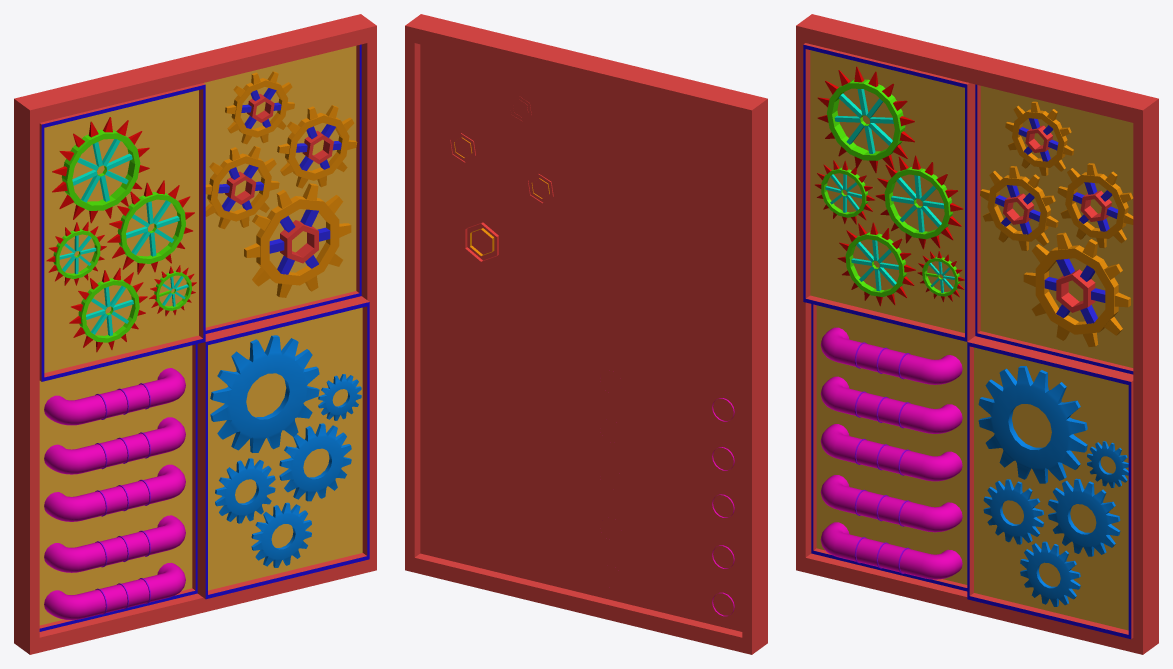
Rendered from WallV2UVID2.fbx.
3 renders of one model, left to right at view 1: azimuth 30°, elevation 25°; view 2: azimuth 150°, elevation 25°; view 3: azimuth 330°, elevation 25°, orthographic.
Parts seen in each view (by area): view 1: Wall, Pipe 1, Gear1, Gear2, Gear 3.004; view 2: Wall, Gear1; view 3: Wall, Pipe 1, Gear1, Gear2, Gear 3.004.
Part boxes in pixels (x1,y1,x2,y2): Wall: (14,14,376,654); Pipe 1: (44,368,185,620); Gear1: (205,71,357,297); Gear2: (210,335,361,567); Gear 3.004: (46,116,196,352); Wall: (405,14,767,654); Gear1: (450,97,553,261); Wall: (796,14,1158,654); Pipe 1: (820,327,962,579); Gear1: (980,101,1133,346); Gear2: (978,366,1128,606); Gear 3.004: (815,66,964,306).
Bounding box in the file's own units: 65.84 × 98.76 × 8.18.
